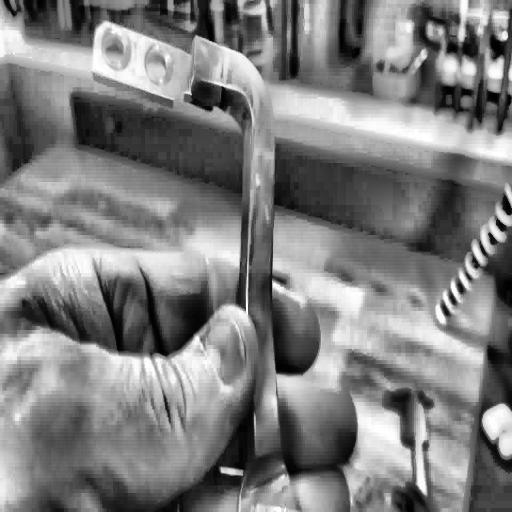busbar: (90, 15, 309, 512)
